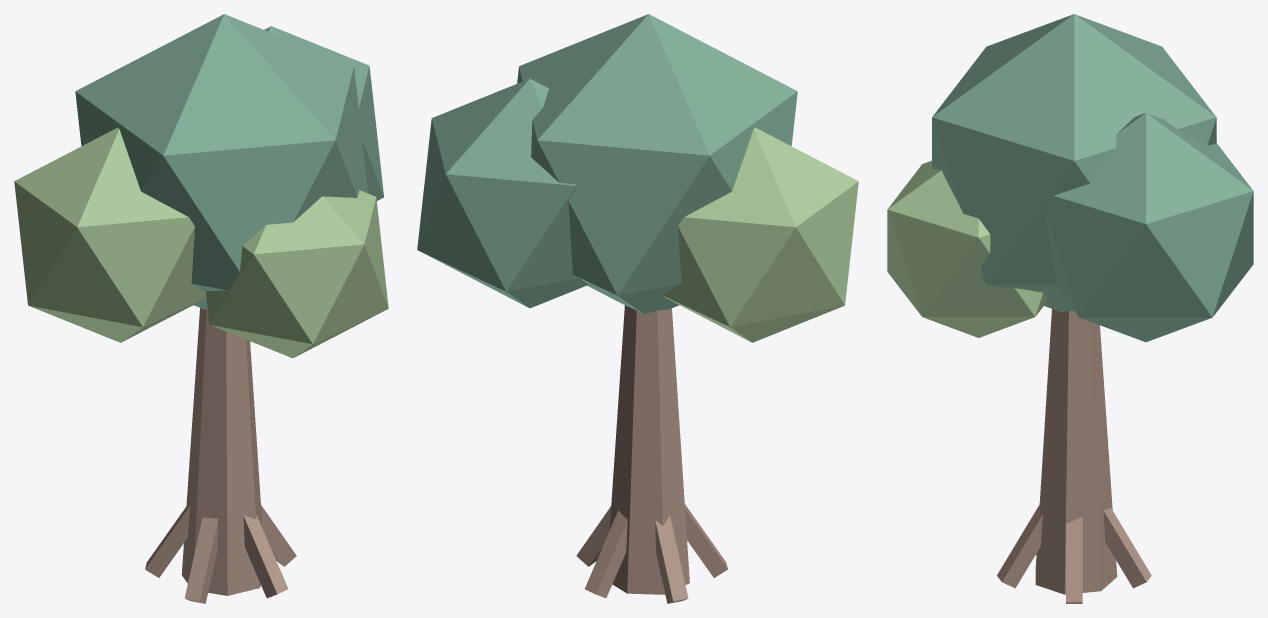
File: 09_ButtressTree.glb
3 renders of one model, left to right at view 1: azimuth 30°, elevation 25°; view 2: azimuth 150°, elevation 25°; view 3: azimuth 270°, elevation 25°, orthographic.
Parts seen in each view (by area): view 1: 09_ButtressTree; view 2: 09_ButtressTree; view 3: 09_ButtressTree.
Boxes of the visible parts, bbox=[...] form: 09_ButtressTree: bbox=[14, 14, 388, 603]; 09_ButtressTree: bbox=[417, 14, 858, 603]; 09_ButtressTree: bbox=[887, 14, 1253, 603].
Size of the model in its own units: 18.21 by 26 by 15.34.
